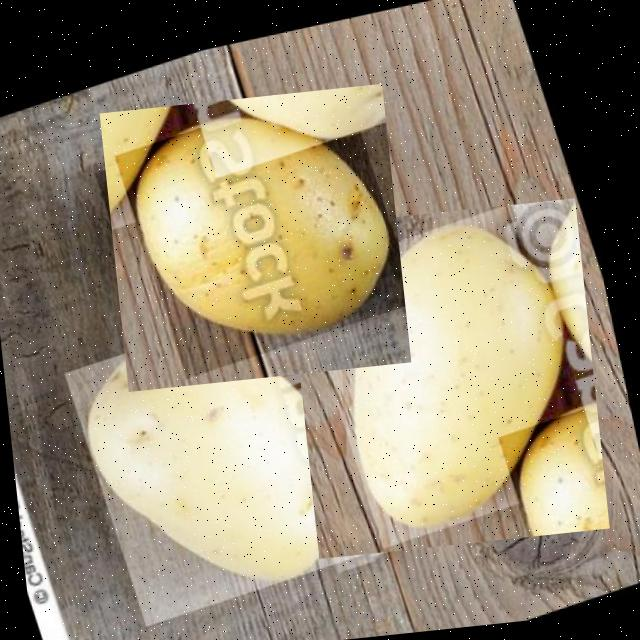Potato: (284, 197, 609, 558), (64, 280, 386, 621), (99, 82, 411, 390)
